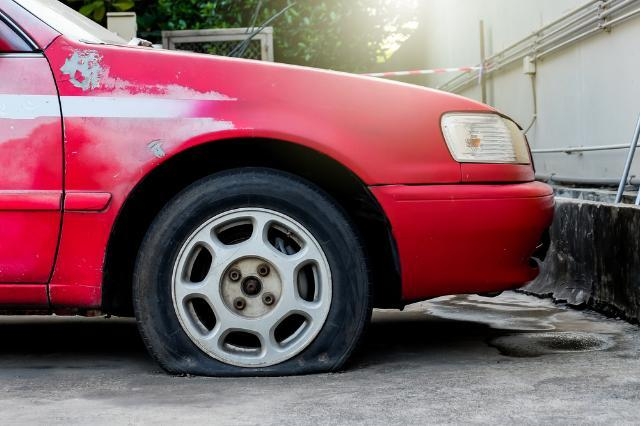tire flat: (134, 166, 374, 376)
